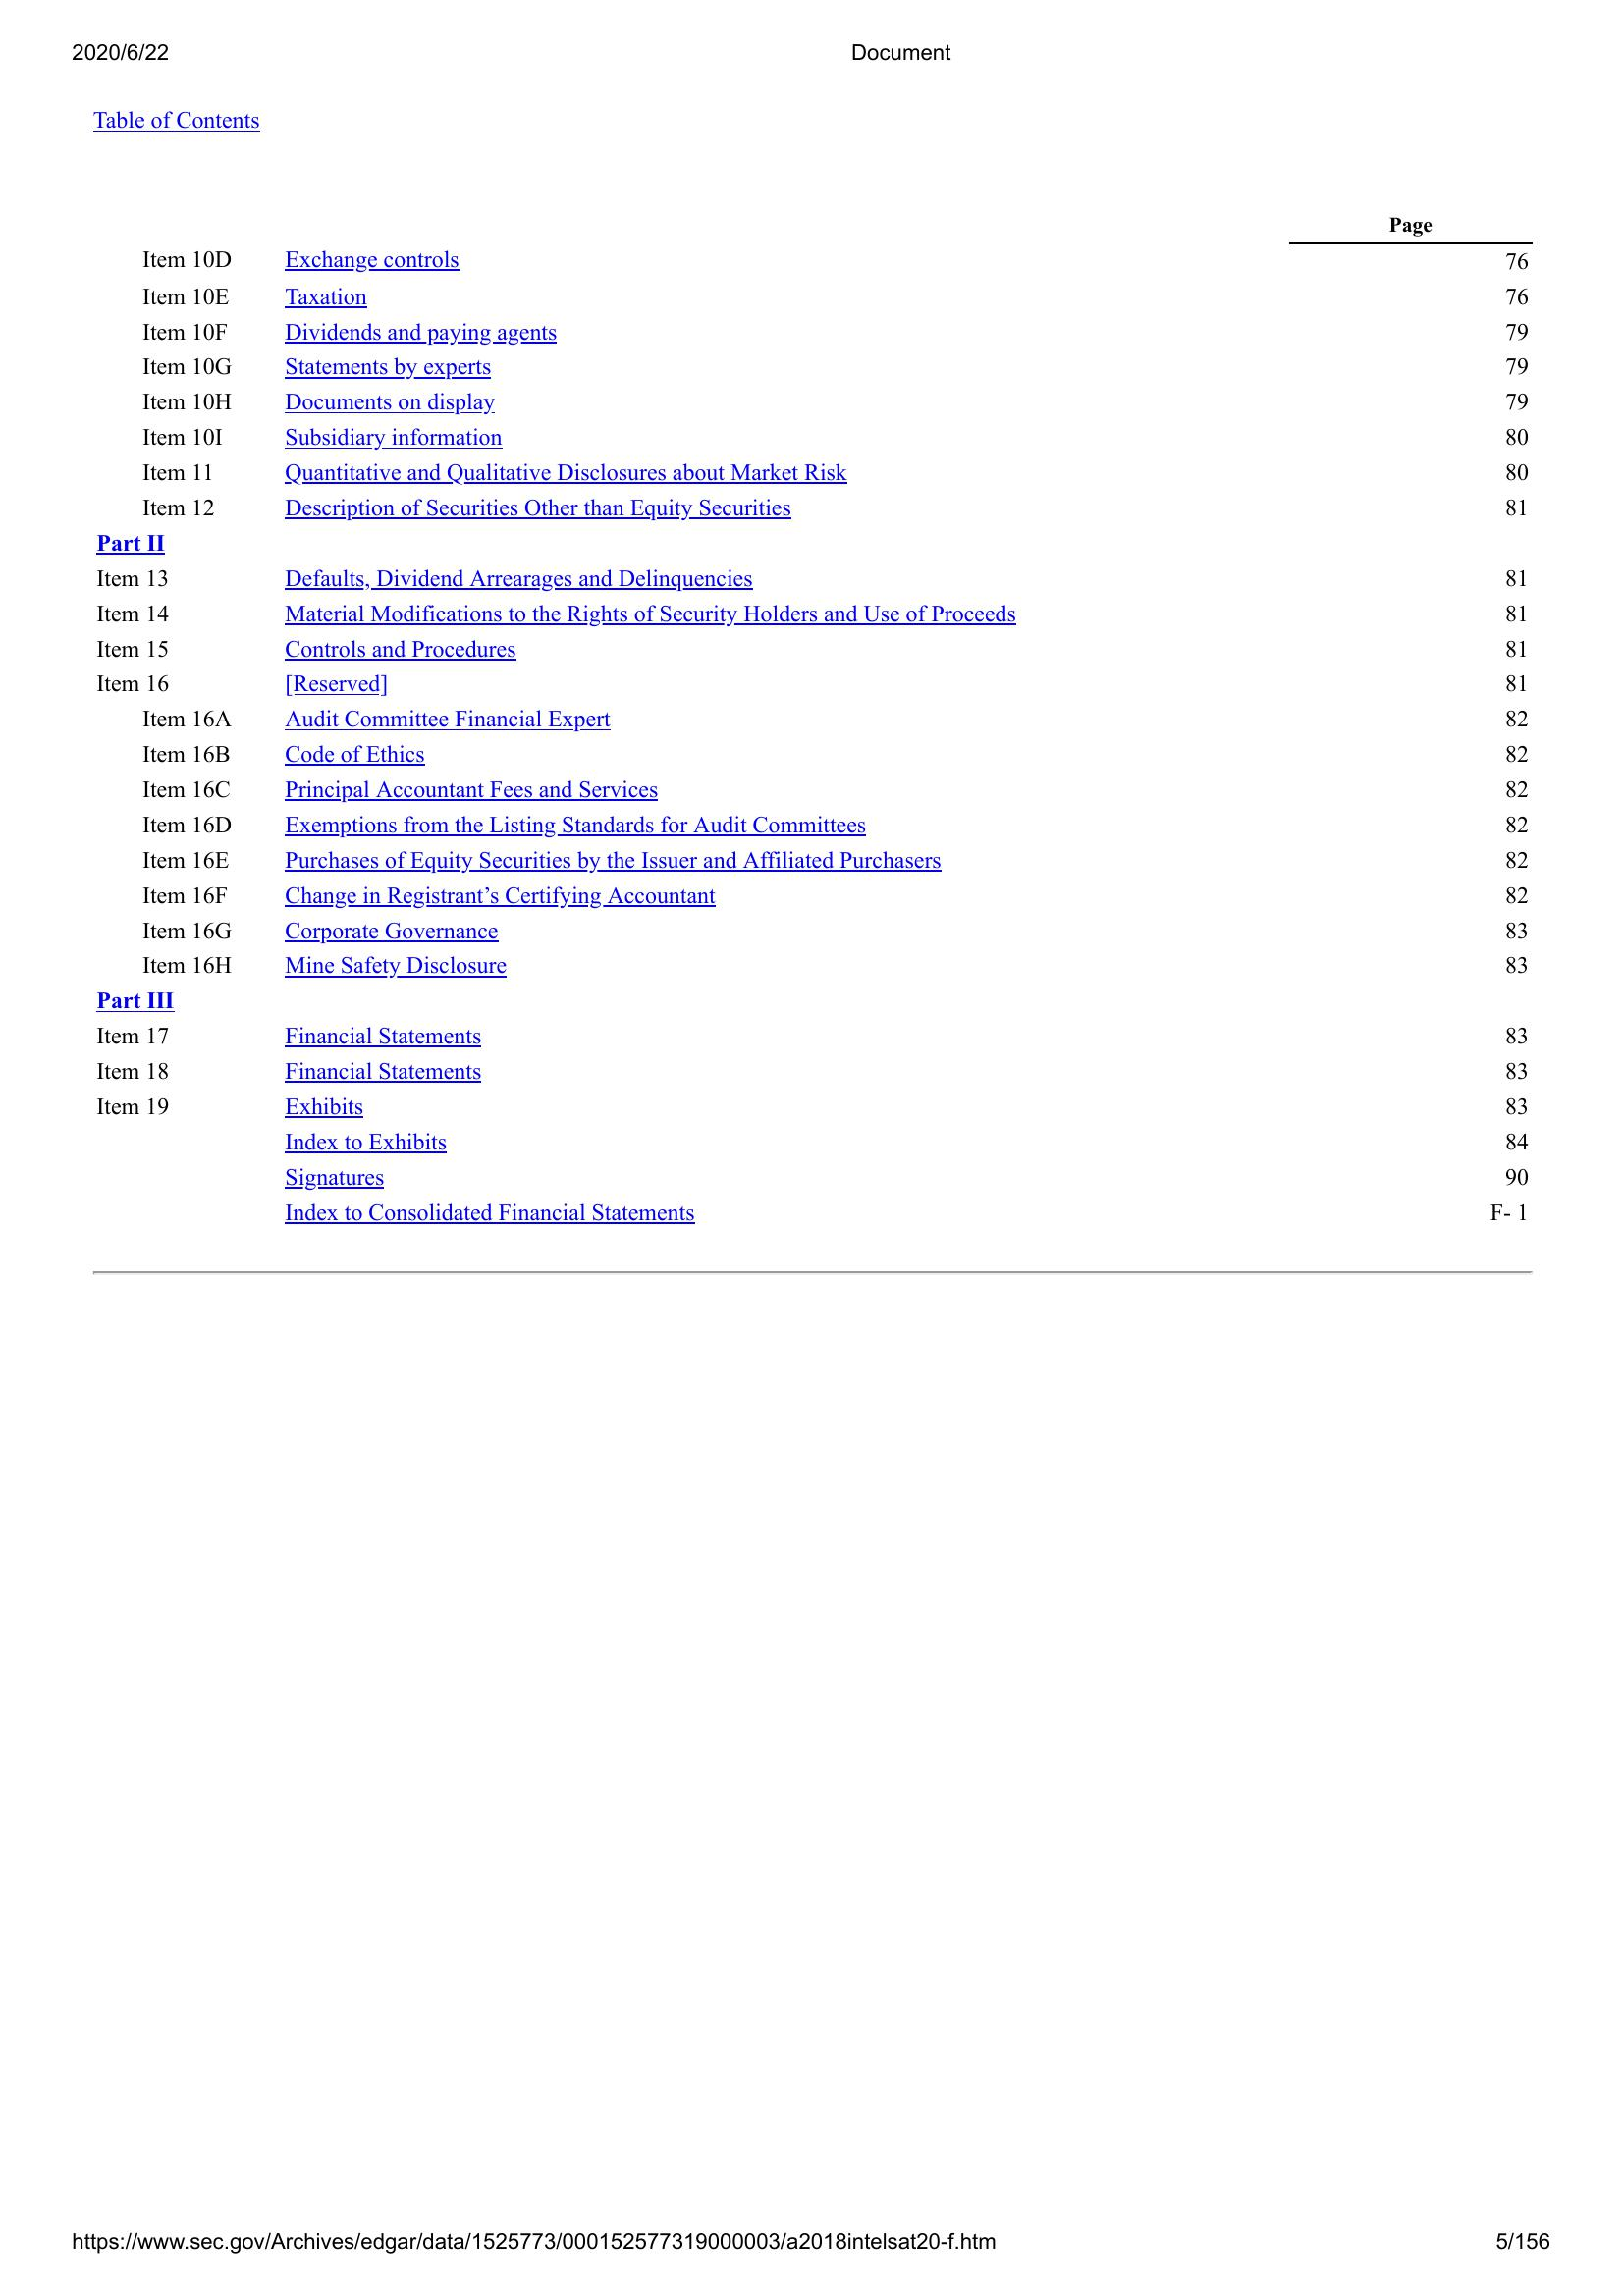table: (84, 216, 1540, 1231)
